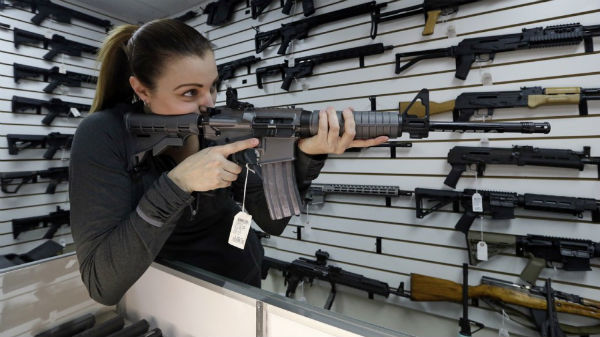Arma Real: (122, 87, 554, 219), (262, 247, 418, 324), (393, 18, 600, 75), (412, 183, 600, 232), (247, 38, 394, 96), (252, 2, 396, 54), (449, 139, 599, 187), (9, 25, 101, 63), (8, 59, 102, 92)
